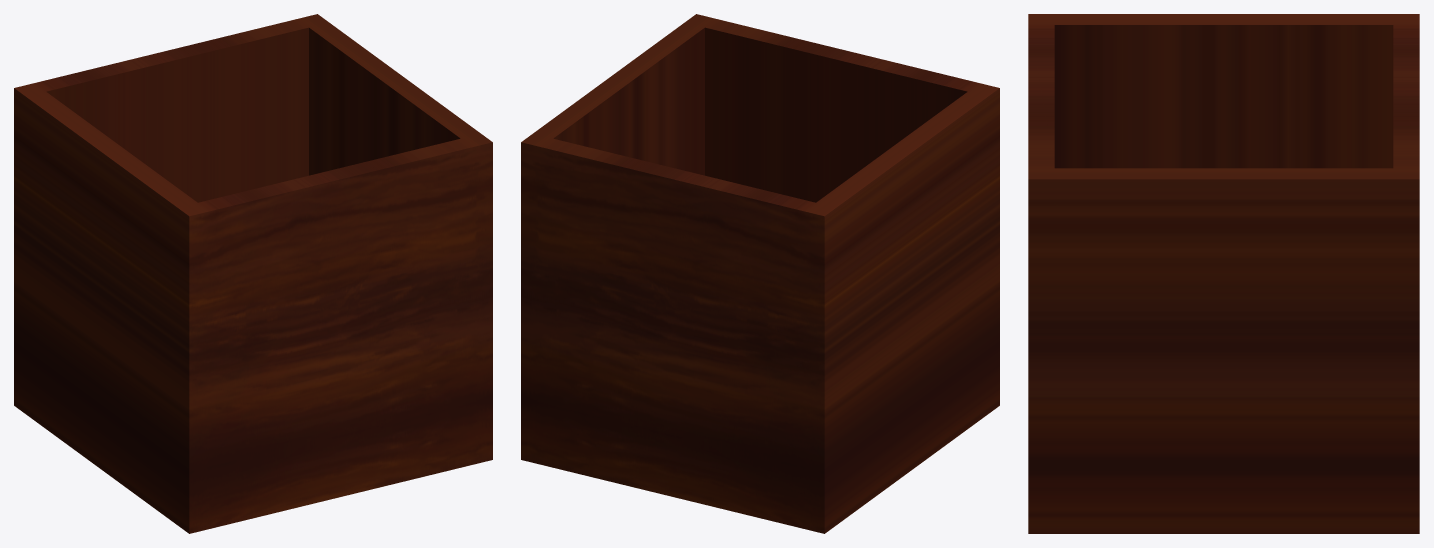
Rendered from box_return.glb.
The picture shows the model from 3 angles, left to right: view 1: azimuth 30°, elevation 25°; view 2: azimuth 150°, elevation 25°; view 3: azimuth 270°, elevation 25°; orthographic projection. The views are drawn at different scales.
Parts seen in each view (by area): view 1: ReturnBox-col; view 2: ReturnBox-col; view 3: ReturnBox-col.
Part boxes in pixels (x1,y1,x2,y2): ReturnBox-col: (14, 14, 492, 533); ReturnBox-col: (521, 14, 999, 533); ReturnBox-col: (1028, 14, 1419, 533).
Bounding box in the file's own units: 0.8434 × 0.8434 × 0.8434.
1 material, 1 textured.
